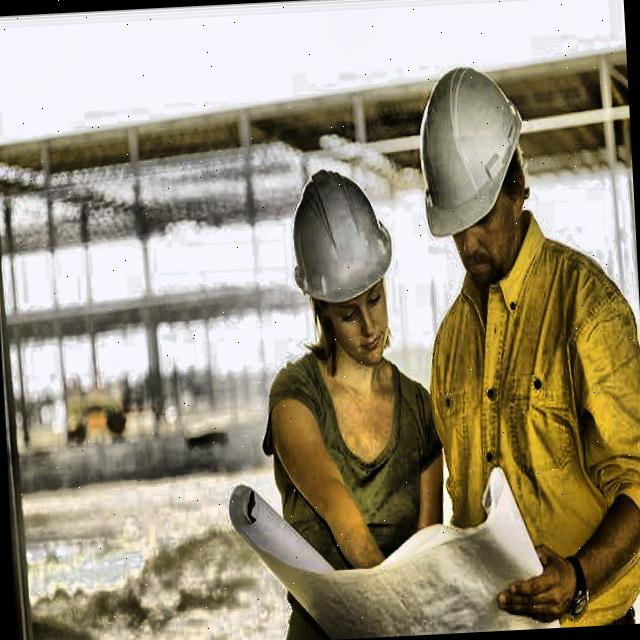helmet: (397, 45, 561, 305), (272, 148, 416, 380)
